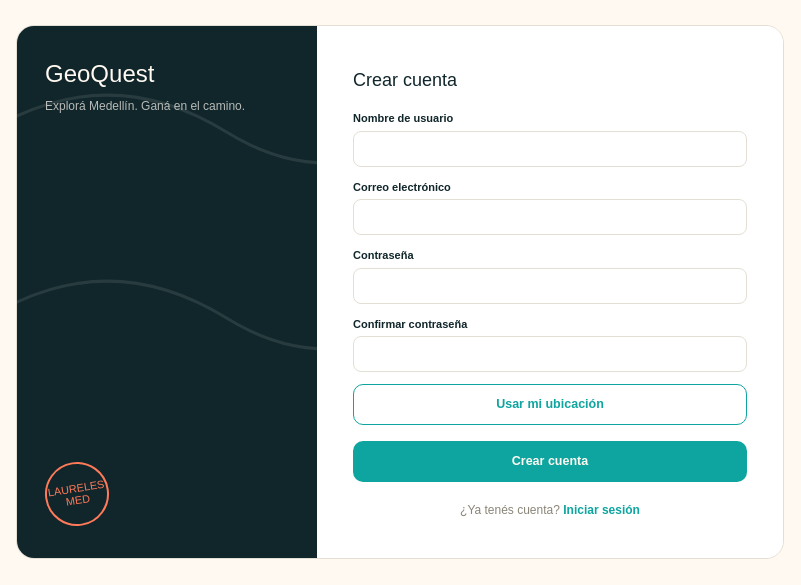
Test case: RegisterPage › blocks submission with an inline error when the passwords do not match
Type "nachomed" into the field labelled "Nombre de usuario" at [550, 149], box 353,131 -> 747,167
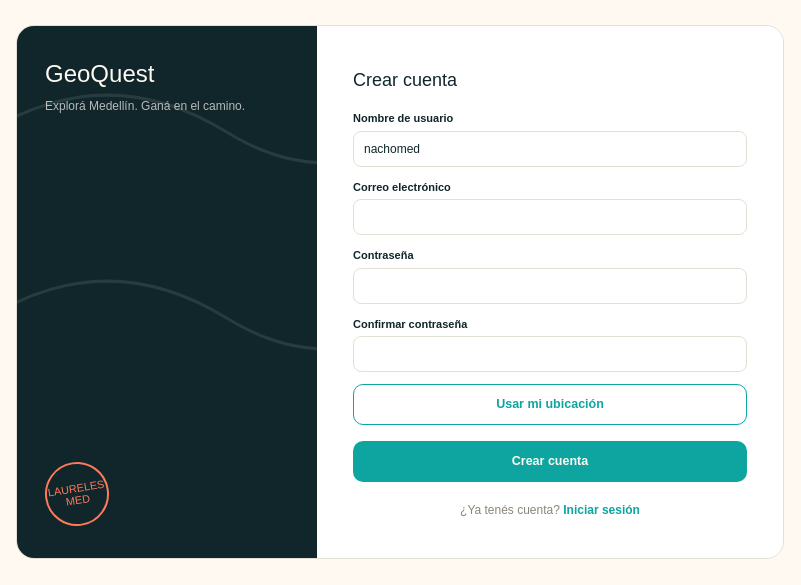
Type "nachomed@example.com" into the field labelled "Correo electrónico" at [550, 217], box 353,199 -> 747,235
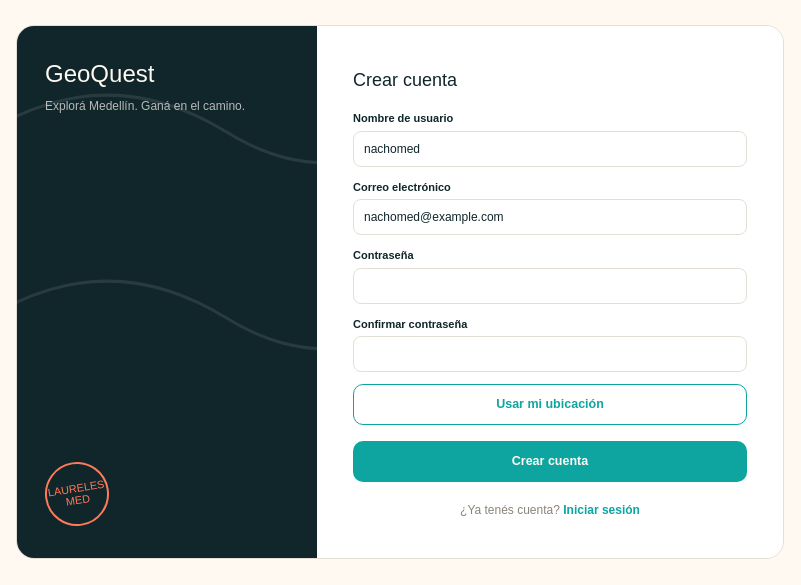
Type "password123" into the password field labelled "Contraseña" at [550, 286], box 353,268 -> 747,304
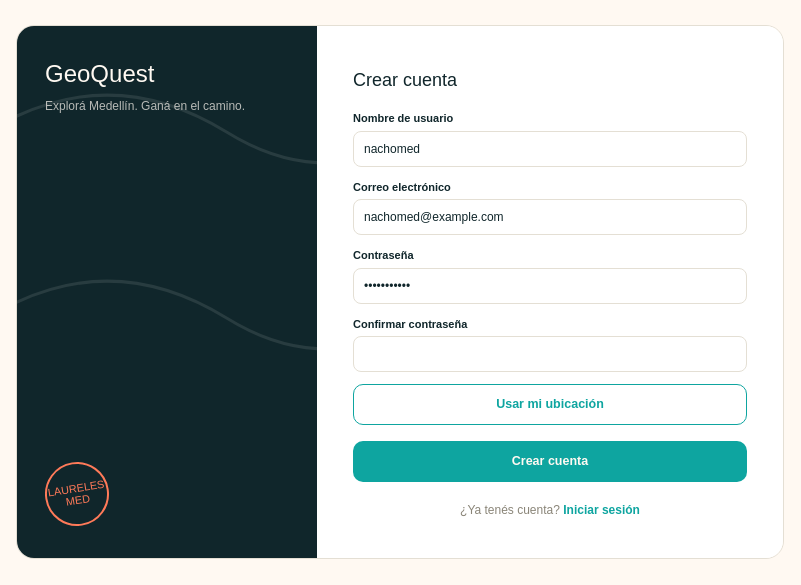
Type "different123" into the password field labelled "Confirmar contraseña" at [550, 354], box 353,336 -> 747,372
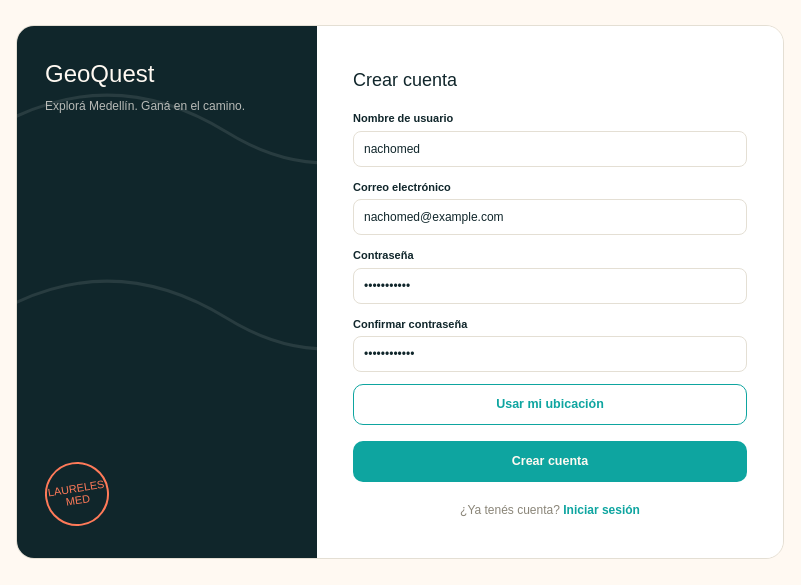
Click the button "Crear cuenta" at [550, 461], box 353,441 -> 747,482
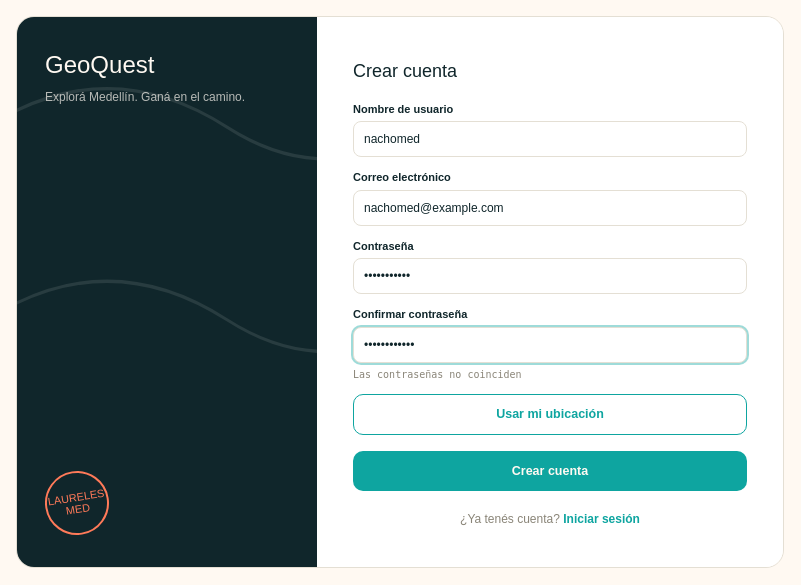
Expected: the text "Las contraseñas no coinciden" is shown, 353,369 -> 522,380
